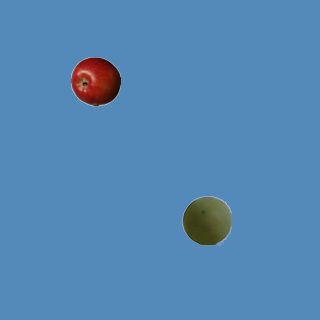Apple Braeburn: (70, 56, 120, 106)
Grape White 4: (181, 195, 231, 245)
